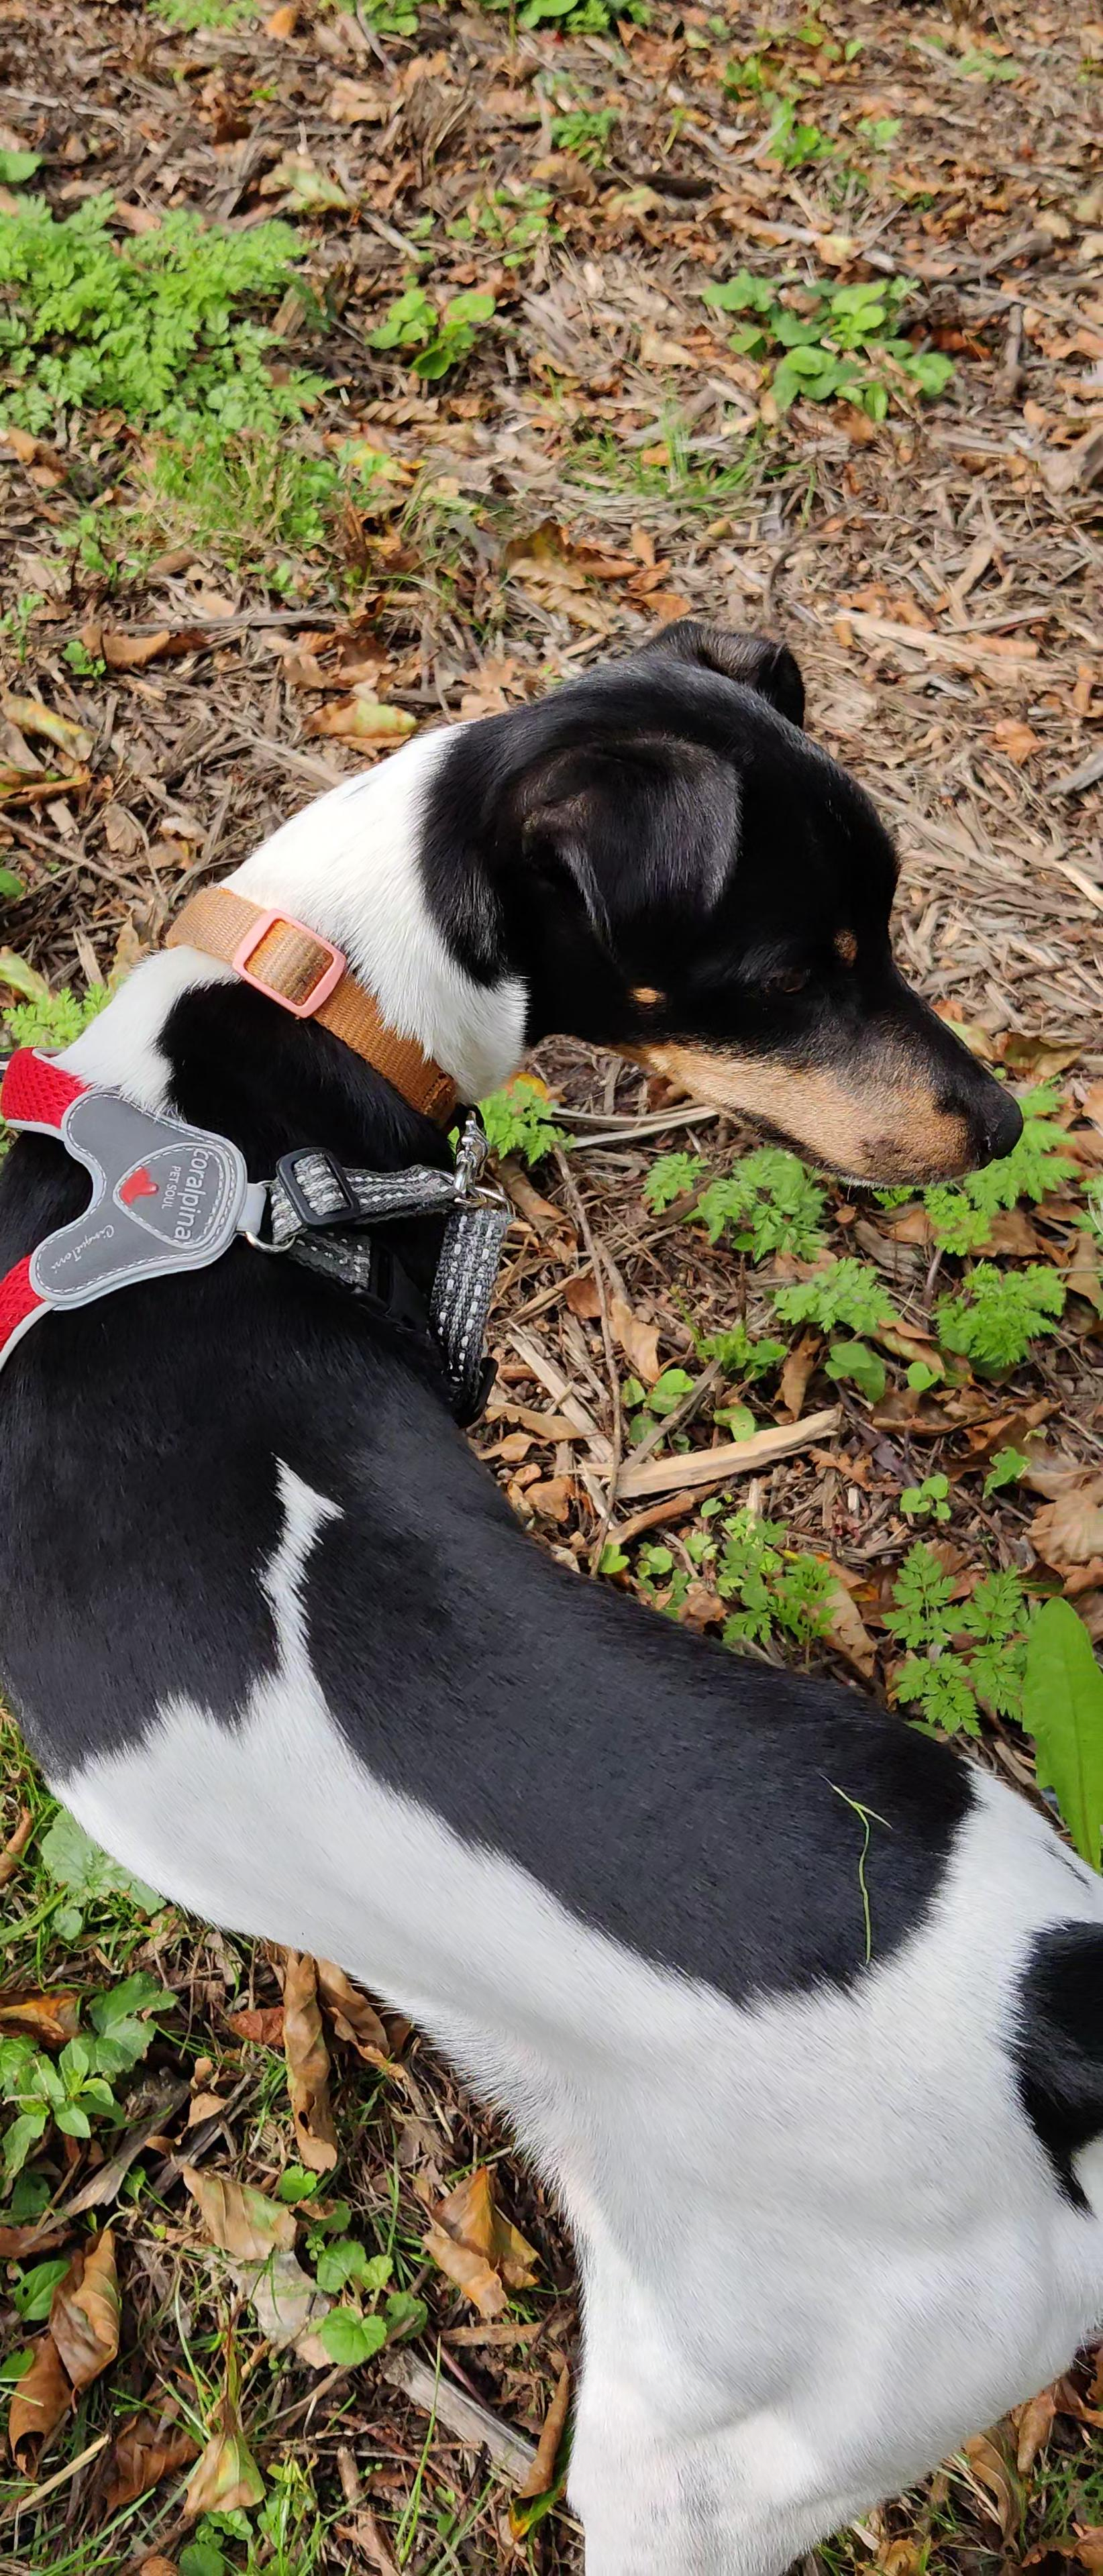Dog: (0, 590, 1103, 2576)
